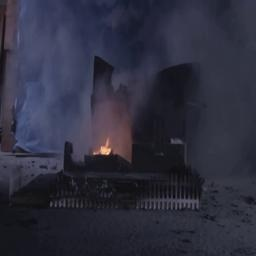fire: (87, 134, 123, 161)
smoke: (27, 6, 236, 126)
